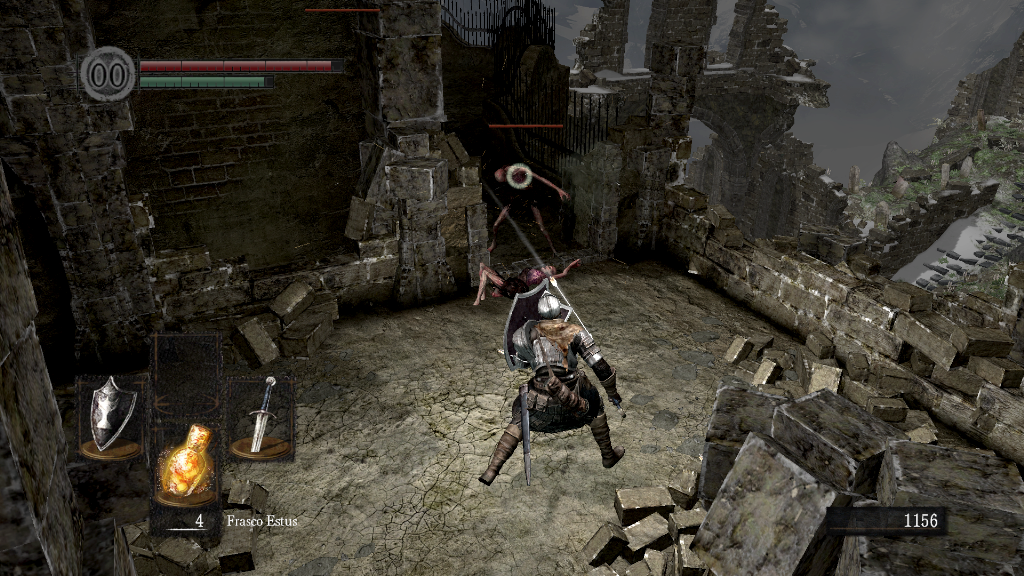health: (138, 58, 343, 71)
hollow: (490, 158, 575, 265)
humanity: (80, 45, 136, 102)
player: (479, 274, 628, 485)
souls: (825, 506, 945, 536)
stamina: (138, 74, 274, 88)
